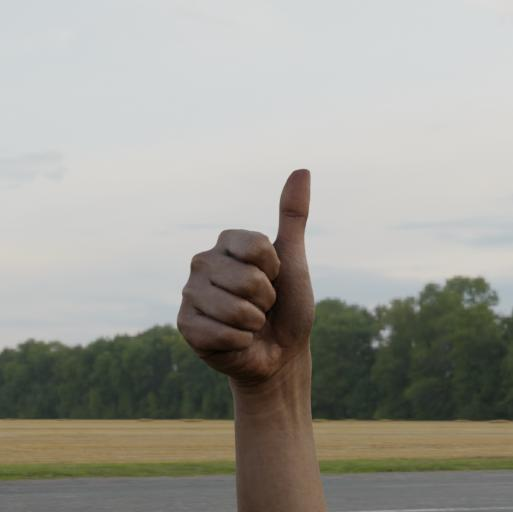thumbs-up: (174, 162, 320, 392)
